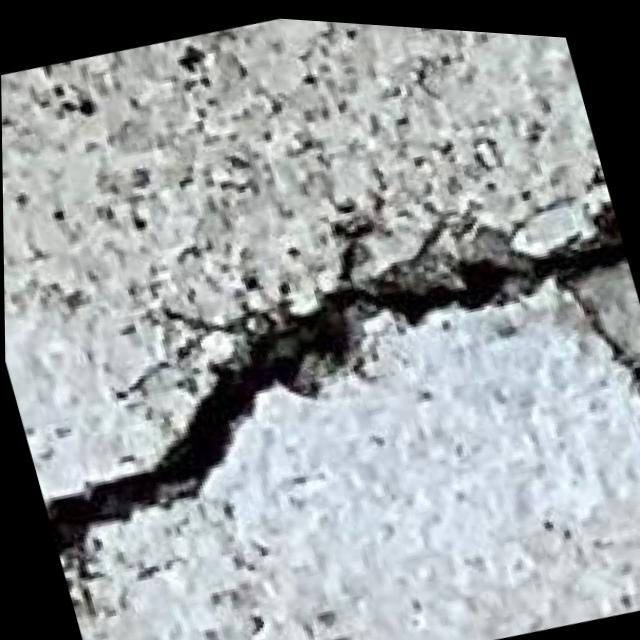Crack: (2, 163, 640, 640)
